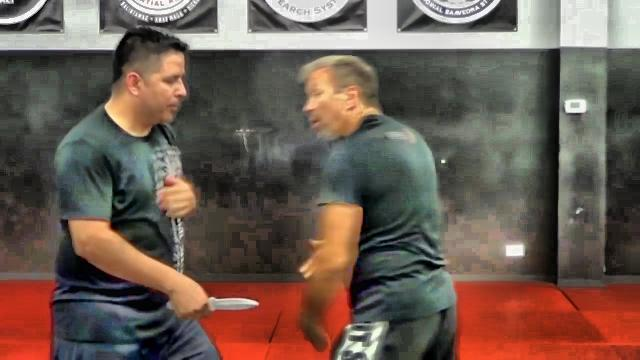knife: (158, 289, 266, 317)
